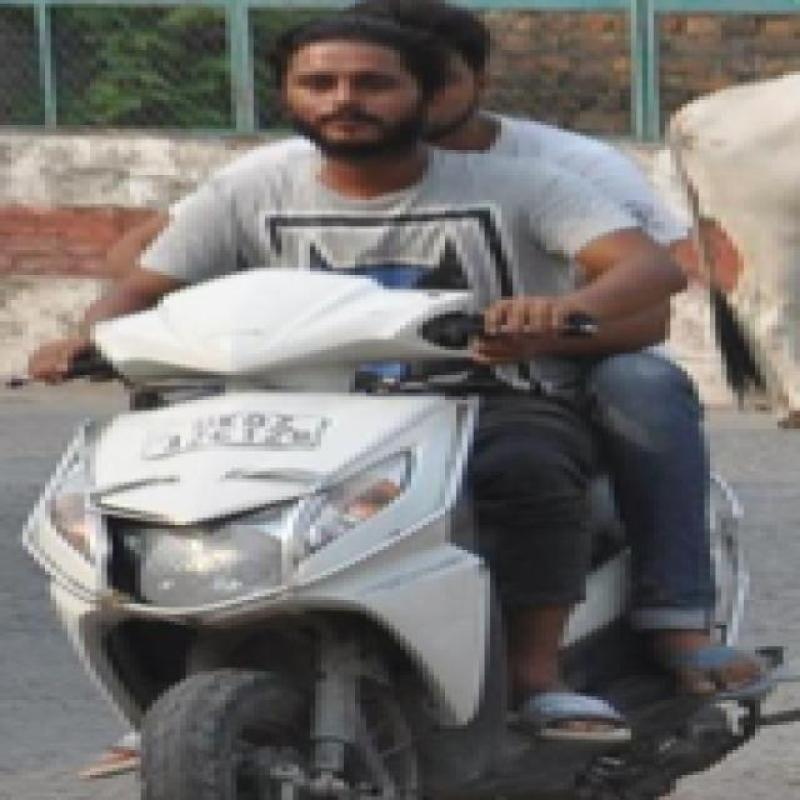nohelmet: (244, 24, 453, 162)
